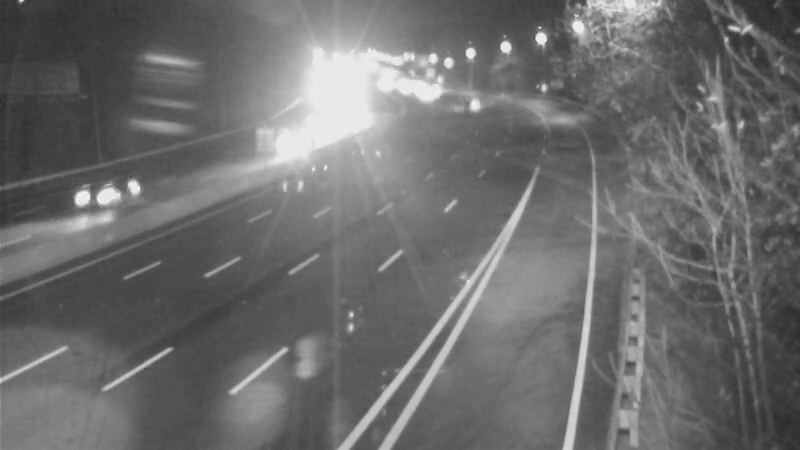vehicle: (67, 157, 147, 237), (434, 74, 484, 124), (268, 113, 318, 163)
